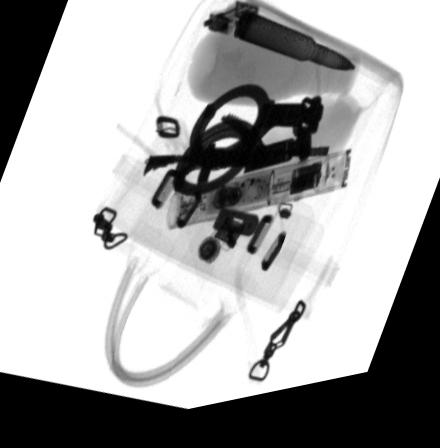Baton: (168, 162, 353, 236)
Bullet: (233, 18, 357, 85)
Gun: (144, 155, 331, 204)
HandCuffs: (171, 94, 330, 205)
